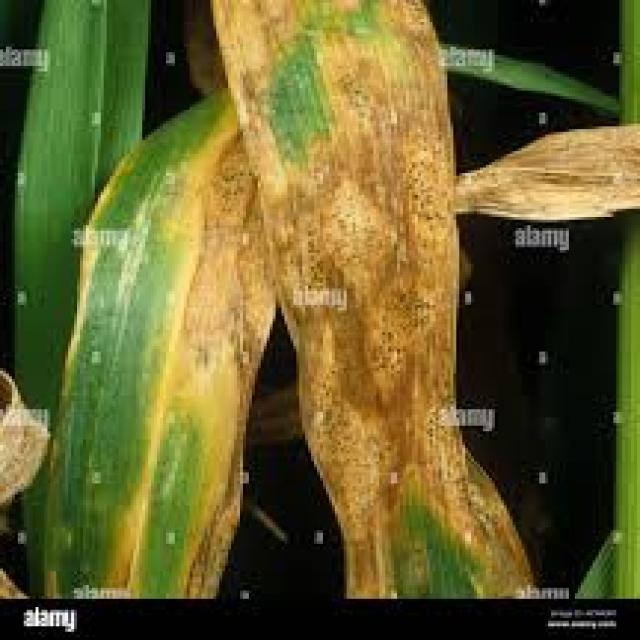leaf_blight: (213, 0, 530, 596), (39, 91, 273, 593), (456, 124, 637, 217)
